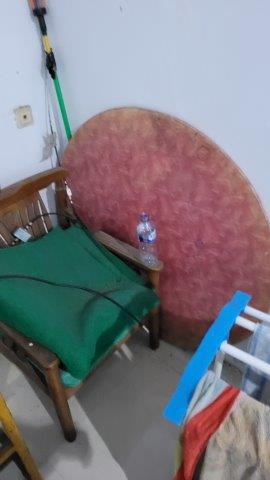botolplastik: (138, 216, 158, 267)
